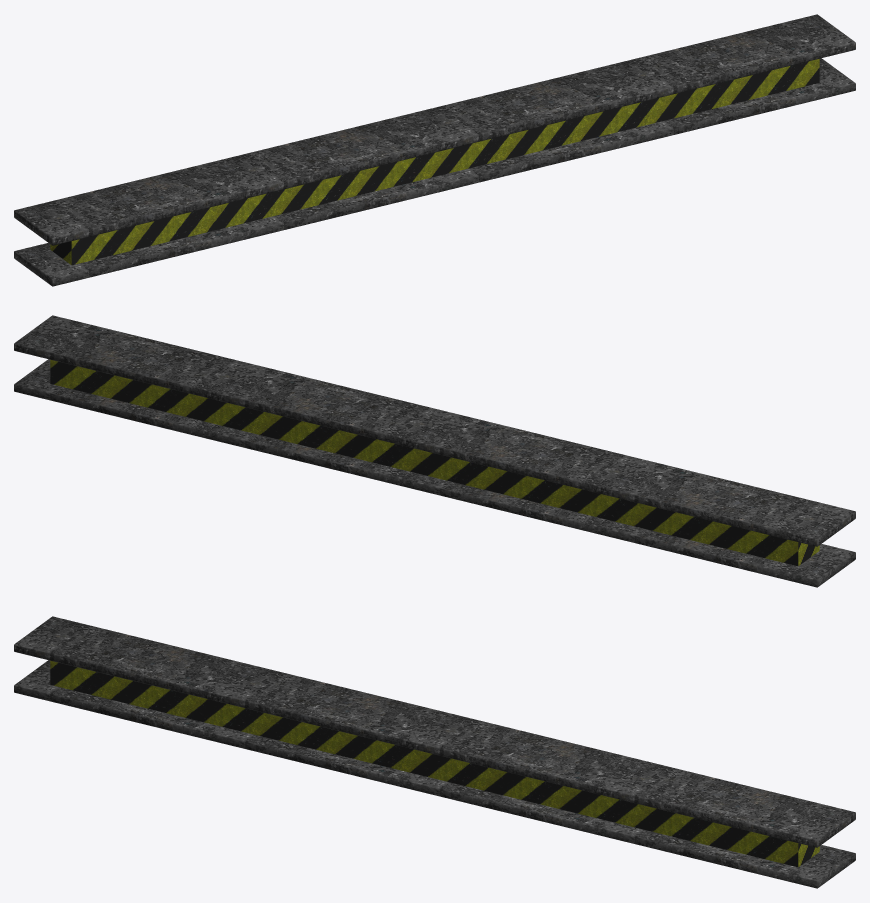
The model's file is Metal Support.fbx.
3 renders of one model, top to bottom at view 1: azimuth 30°, elevation 25°; view 2: azimuth 150°, elevation 25°; view 3: azimuth 330°, elevation 25°, orthographic.
Visible parts, largest first — view 1: Frame, Base; view 2: Frame, Base; view 3: Frame, Base.
Part boxes in pixels (left/top/right/bottom): Frame: left=14, top=14, right=855, bottom=286; Base: left=50, top=58, right=819, bottom=265; Frame: left=14, top=315, right=855, bottom=587; Base: left=50, top=359, right=819, bottom=566; Frame: left=14, top=616, right=855, bottom=888; Base: left=50, top=660, right=819, bottom=867.
Size of the model in its own units: 860 by 49.74 by 72.
Materials: 1 (1 with a texture image).
